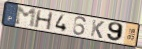4: (54, 14, 68, 33)
6: (72, 16, 87, 37)
9: (106, 22, 126, 43)
H: (33, 10, 54, 32)
K: (90, 19, 106, 40)
M: (15, 6, 38, 29)
